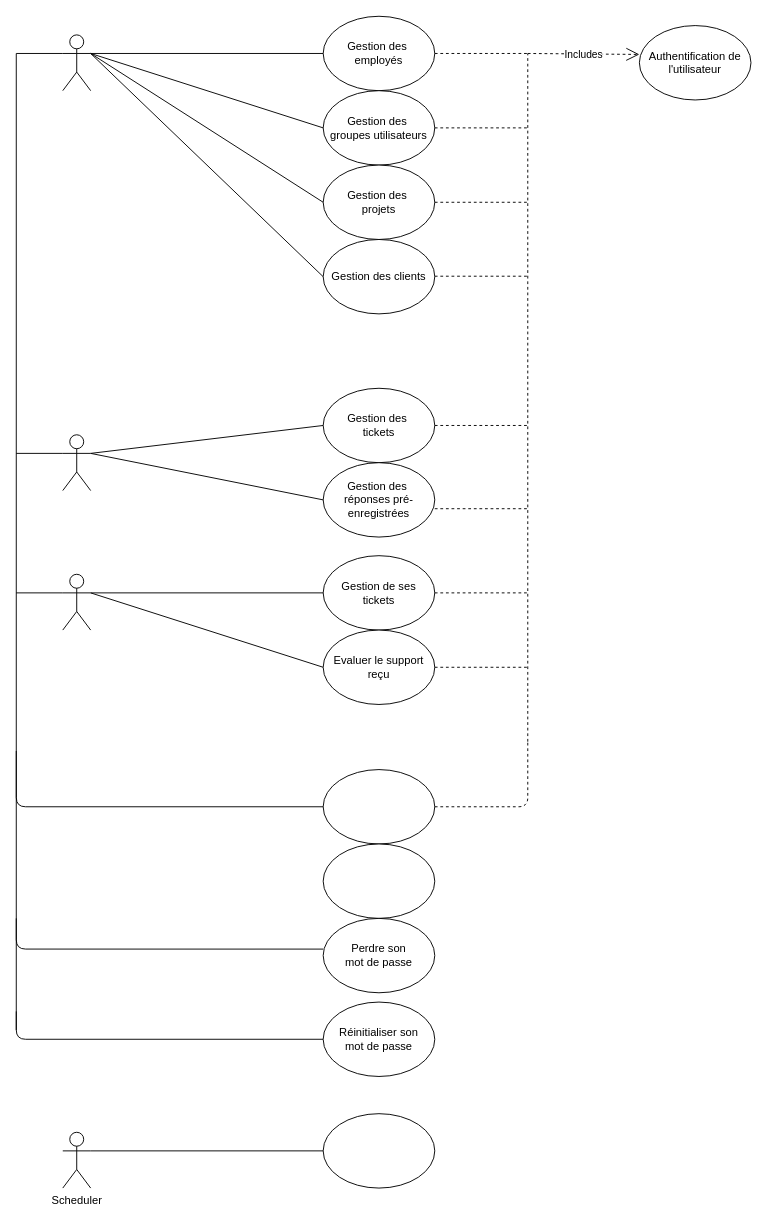
The diagram is 767 pixels wide and 1224 high, and some of its shapes have lost their labels. The centre of each missing label's shape, as x and y in pixels:
"Admin" belongs at point (76, 62).
"Client" belongs at point (76, 601).
"Créer ou répond à un ticket par mail" belongs at point (378, 1150).
"Gestion de son profil" belongs at point (378, 806).
"Membre" belongs at point (76, 462).
"S'enregistrer" belongs at point (378, 880).
